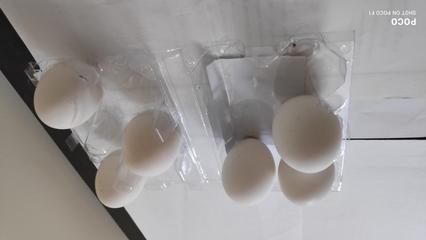eggs: (271, 97, 348, 168), (29, 64, 107, 132), (123, 119, 185, 177), (222, 141, 272, 210)
